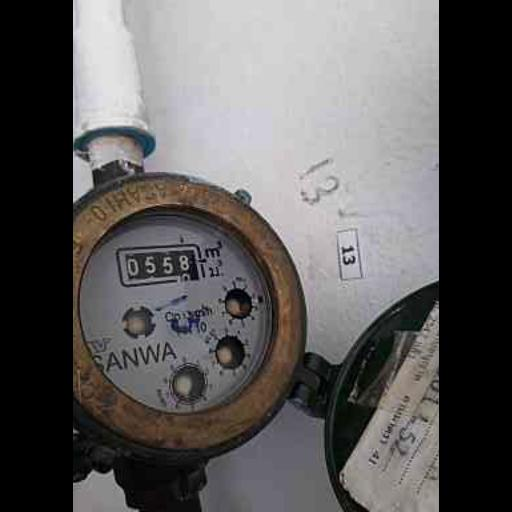0: (125, 251, 145, 281)
5: (158, 250, 180, 279), (141, 250, 161, 280)
8: (176, 247, 201, 283)
border_water_meter_number: (116, 242, 207, 289)
